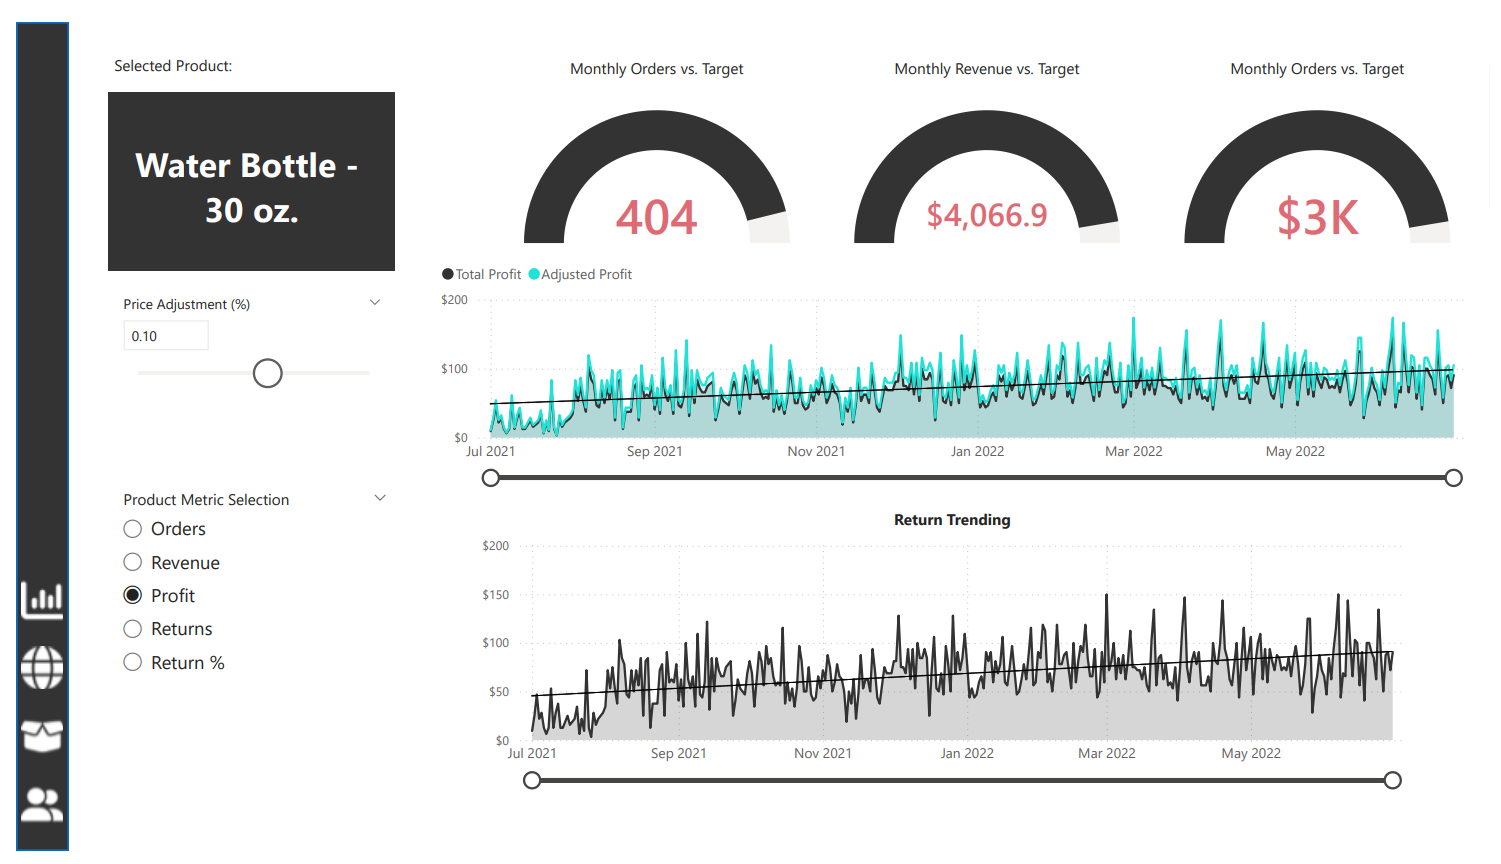

The page's visual inventory and layout, read from the dashboard file:
{"tool":"powerbi","page":{"name":"Product Detail","canvas":[1280,720],"ordinal":2},"visuals":[{"type":"shape","box":[0,0,45,720],"z":0},{"type":"actionButton","box":[0,477.1,44.3,50],"z":0,"group":"g1"},{"type":"gauge","title":"Monthly Orders vs. Target","fields":{"Y":["Measure Table.Total Orders"],"MaxValue":["Measure Table.Order Targe"]},"box":[435.7,31.4,241.4,215.7],"z":1000},{"type":"actionButton","box":[0,595.9,44.3,50],"z":1000,"group":"g1"},{"type":"gauge","title":"Monthly Revenue vs. Target","fields":{"Y":["Measure Table.Total Revenue"],"MaxValue":["Measure Table.Revenue Targe"]},"box":[722.9,31.4,241.4,215.7],"z":2000},{"type":"actionButton","box":[0,655.2,44.3,50],"z":2000,"group":"g1"},{"type":"gauge","title":"Monthly Orders vs. Target","fields":{"Y":["Measure Table.Total Profit"],"MaxValue":["Measure Table.Profit Targe"]},"box":[1010,31.4,241.4,215.7],"z":3000},{"type":"actionButton","box":[0,536.5,44.3,50],"z":3000,"group":"g1"},{"type":"lineChart","title":"Profit Trending","fields":{"Y":["Measure Table.Total Profit","Measure Table.Adjusted Profit"],"Category":["Calendar Lookup.Date.Variation.Date Hierarchy.Year","Calendar Lookup.Date.Variation.Date Hierarchy.Quarter","Calendar Lookup.Date.Variation.Date Hierarchy.Month","Calendar Lookup.Date.Variation.Date Hierarchy.Day"]},"box":[364.3,198.6,915.7,208.6],"z":4000},{"type":"areaChart","title":"Return Trending","fields":{"Y":["Measure Table.Total Profit"],"Category":["Calendar Lookup.Date.Variation.Date Hierarchy.Year","Calendar Lookup.Date.Variation.Date Hierarchy.Quarter","Calendar Lookup.Date.Variation.Date Hierarchy.Month","Calendar Lookup.Date.Variation.Date Hierarchy.Day"]},"box":[400,422.9,827.1,247.1],"z":5000},{"type":"card","fields":{"Values":["Min(Product Lookup.ProductName)"]},"box":[80,61.4,248.6,154.3],"z":6000},{"type":"textbox","box":[80,23,124,30],"z":7000},{"type":"group","id":"g1","title":"Navigation Button","box":[0,477.1,44.3,228.1],"z":8000},{"type":"slicer","fields":{"Values":["Price Adjustment (%).Price Adjustment (%)"]},"box":[80,231.4,248.6,142.9],"z":9000},{"type":"slicer","fields":{"Values":["Product Metric Selection.Product Metric Selection"]},"box":[80,401.4,254.3,268.6],"z":10000}]}

Visuals, with their boxes on the page's 1280x720 design canvas (x1, y1, x2, y2). These are canvas units, not pixel positions in the 1501x864 screenshot, which may show the page scaled, cropped or inside an application window:
shape: {"x1": 0, "y1": 0, "x2": 45, "y2": 720}
actionButton: {"x1": 0, "y1": 477, "x2": 44, "y2": 527}
"Monthly Orders vs. Target" gauge: {"x1": 436, "y1": 31, "x2": 677, "y2": 247}
actionButton: {"x1": 0, "y1": 596, "x2": 44, "y2": 646}
"Monthly Revenue vs. Target" gauge: {"x1": 723, "y1": 31, "x2": 964, "y2": 247}
actionButton: {"x1": 0, "y1": 655, "x2": 44, "y2": 705}
"Monthly Orders vs. Target" gauge: {"x1": 1010, "y1": 31, "x2": 1251, "y2": 247}
actionButton: {"x1": 0, "y1": 536, "x2": 44, "y2": 586}
"Profit Trending" lineChart: {"x1": 364, "y1": 199, "x2": 1280, "y2": 407}
"Return Trending" areaChart: {"x1": 400, "y1": 423, "x2": 1227, "y2": 670}
card - Min(Product Lookup.ProductName): {"x1": 80, "y1": 61, "x2": 329, "y2": 216}
textbox: {"x1": 80, "y1": 23, "x2": 204, "y2": 53}
"Navigation Button" group: {"x1": 0, "y1": 477, "x2": 44, "y2": 705}
slicer - Price Adjustment (%).Price Adjustment (%): {"x1": 80, "y1": 231, "x2": 329, "y2": 374}
slicer - Product Metric Selection.Product Metric Selection: {"x1": 80, "y1": 401, "x2": 334, "y2": 670}
